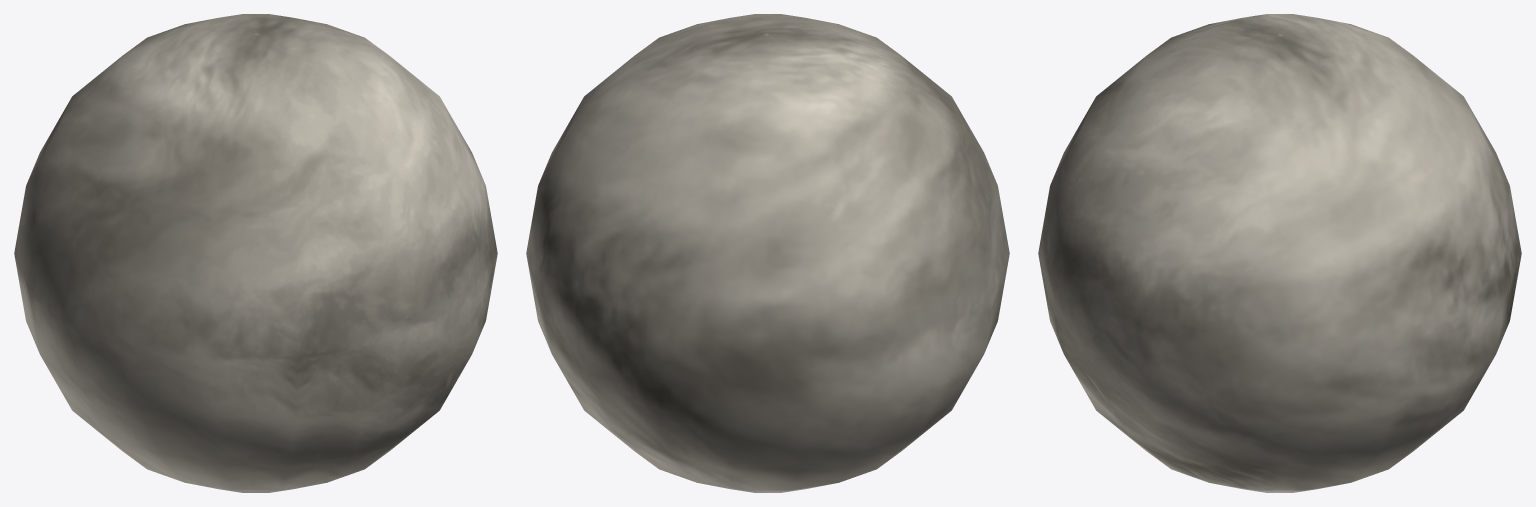
Rendered from Planet_FogBall.fbx.
3 renders of one model, left to right at view 1: azimuth 30°, elevation 25°; view 2: azimuth 150°, elevation 25°; view 3: azimuth 270°, elevation 25°, orthographic.
Visible parts, largest first — view 1: Planet_FogBall; view 2: Planet_FogBall; view 3: Planet_FogBall.
Boxes of the visible parts, <box> form: Planet_FogBall: <box>14,14,497,492</box>; Planet_FogBall: <box>526,14,1009,492</box>; Planet_FogBall: <box>1038,14,1521,492</box>.
Bounding box in the file's own units: 197 × 200 × 200.
